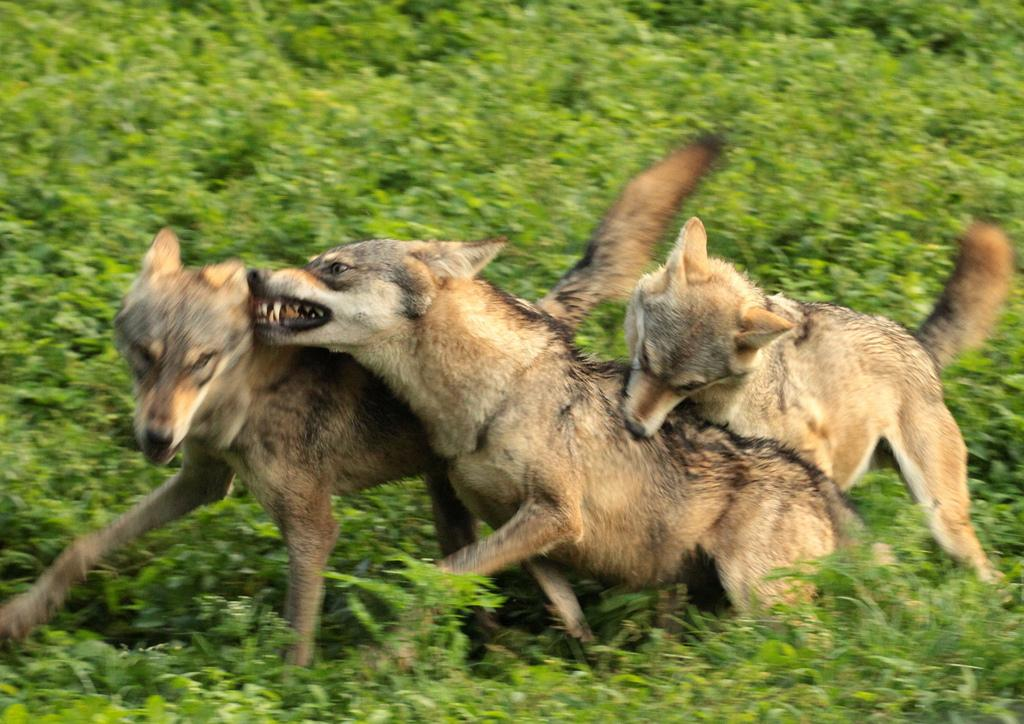Wolf: (0, 129, 726, 666), (248, 231, 856, 650), (615, 218, 1014, 610)
